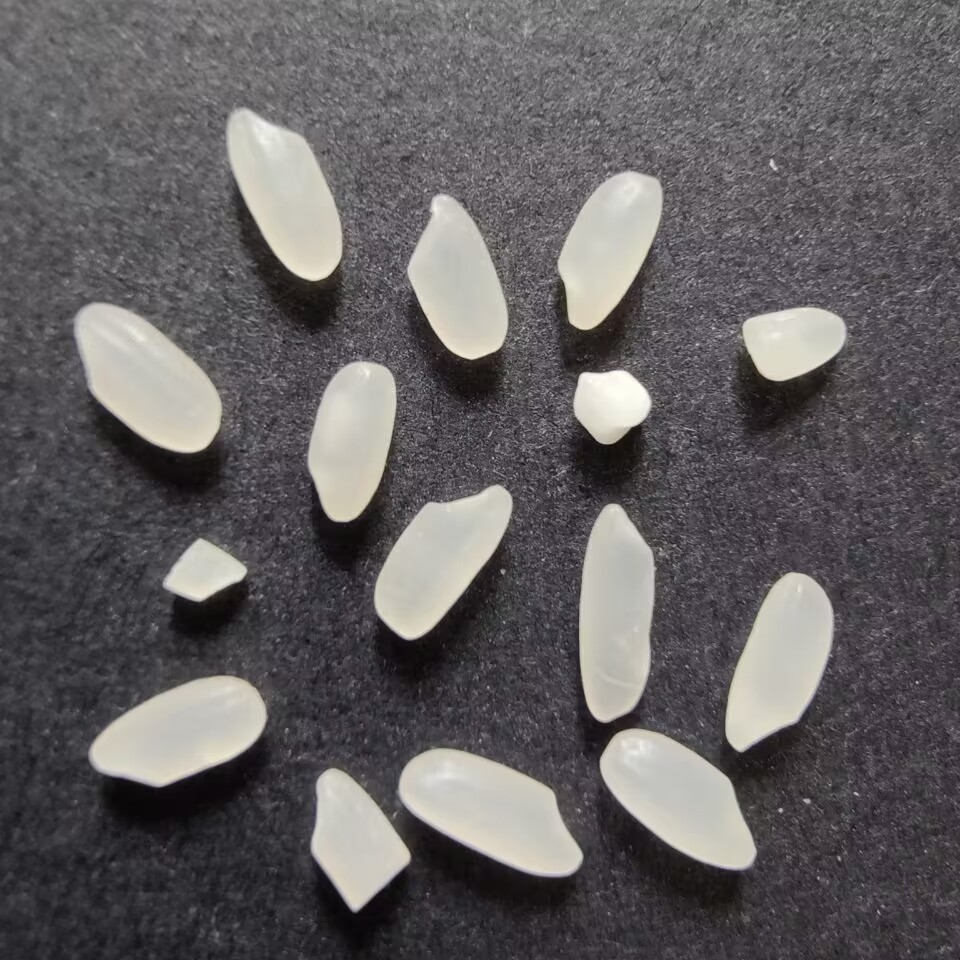broken: (301, 766, 413, 918), (741, 306, 846, 381), (158, 535, 253, 607), (570, 368, 652, 446)
rice: (393, 746, 592, 877), (68, 298, 228, 457), (598, 726, 760, 879), (218, 102, 348, 285), (367, 479, 512, 641), (83, 670, 268, 792), (720, 569, 840, 752), (572, 499, 661, 726), (550, 166, 666, 331), (402, 192, 511, 364), (302, 355, 401, 527)
